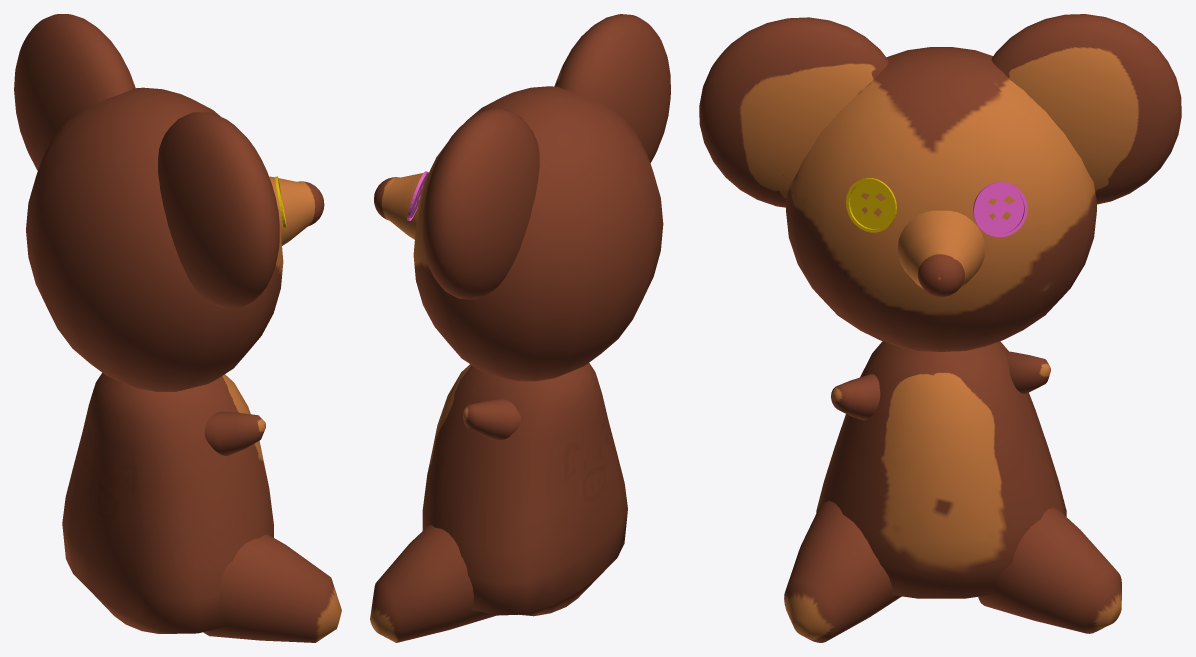
The model's file is Peluche.fbx.
The picture shows the model from 3 angles, left to right: view 1: azimuth 30°, elevation 25°; view 2: azimuth 150°, elevation 25°; view 3: azimuth 270°, elevation 25°; orthographic projection. The views are drawn at different scales.
Parts seen in each view (by area): view 1: Peluche; view 2: Peluche; view 3: Peluche.
Part boxes in pixels (box(x1,y1,x2,y2)): Peluche: box(14, 14, 341, 642); Peluche: box(370, 14, 670, 642); Peluche: box(699, 14, 1181, 642).
Bounding box in the file's own units: 201 × 398 × 304.
